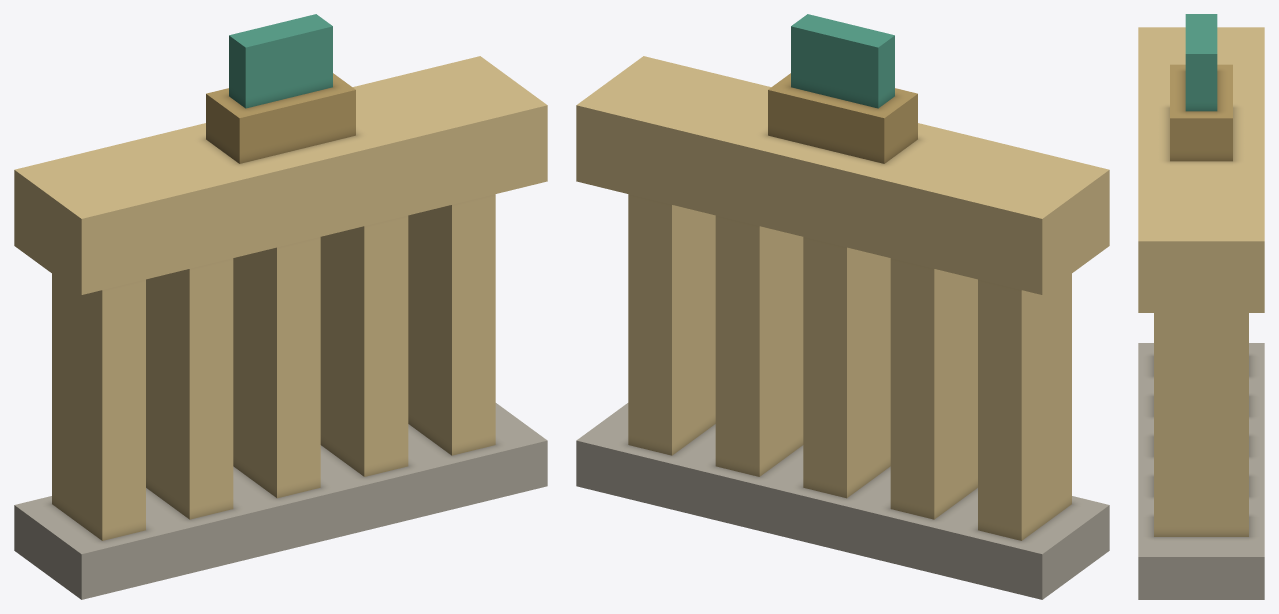
File: w_gate.glb
The picture shows the model from 3 angles, left to right: view 1: azimuth 30°, elevation 25°; view 2: azimuth 150°, elevation 25°; view 3: azimuth 270°, elevation 25°; orthographic projection. The views are drawn at different scales.
Visible parts, largest first — view 1: w_gate_body; view 2: w_gate_body; view 3: w_gate_body.
Part boxes in pixels (x1,y1,x2,y2): w_gate_body: [14, 14, 547, 599]; w_gate_body: [576, 14, 1109, 599]; w_gate_body: [1138, 14, 1264, 599].
Bounding box in the file's own units: 2 × 2 × 0.5.
Materials: 1 (1 with a texture image).
